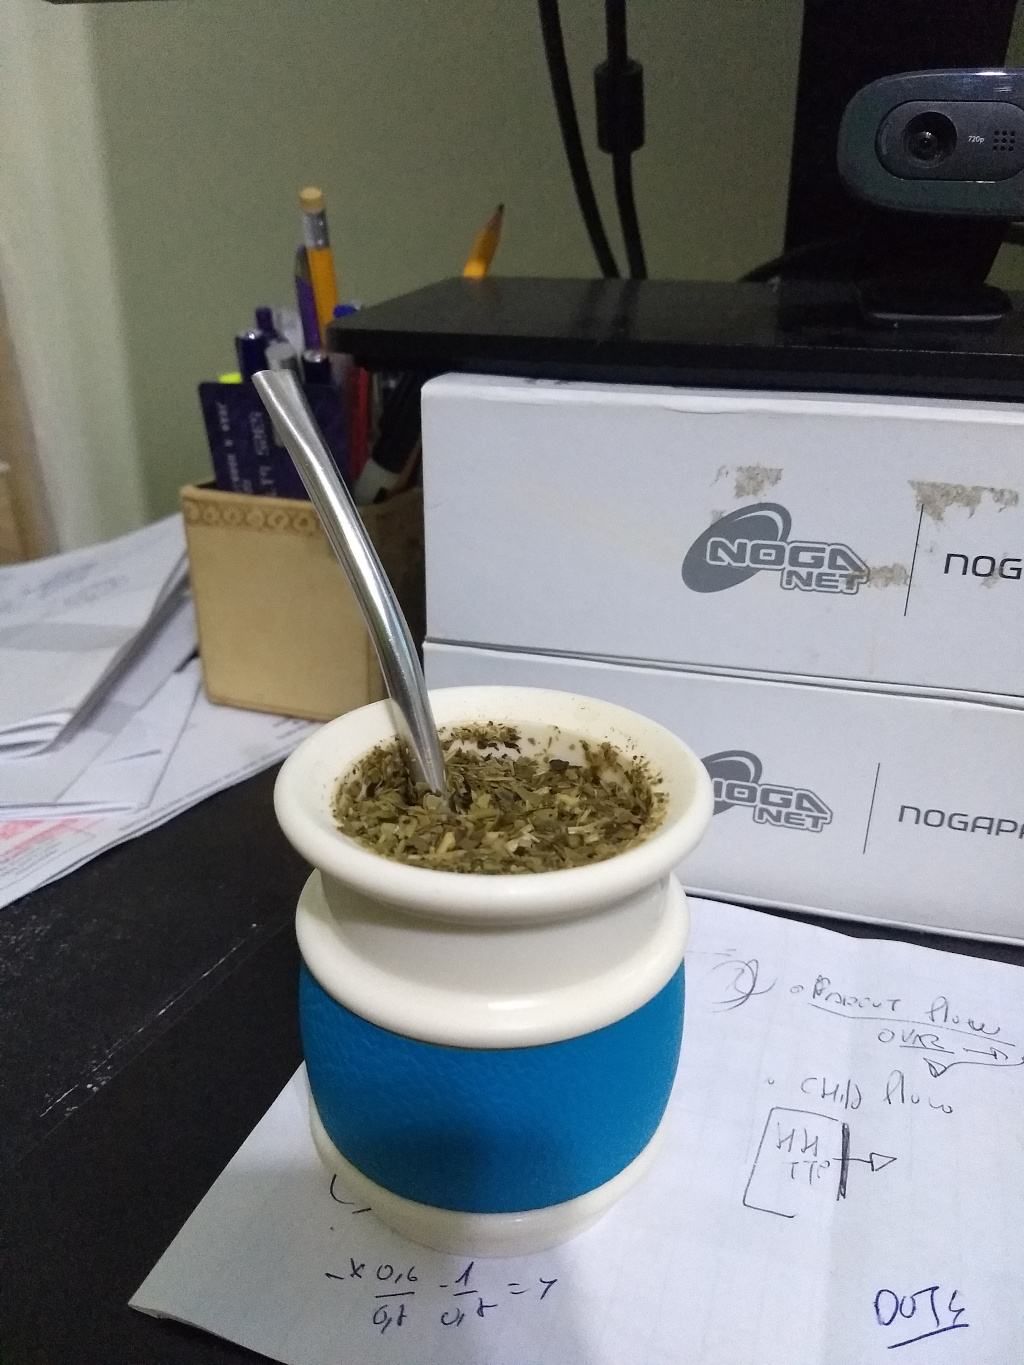mate: (234, 368, 719, 1259)
